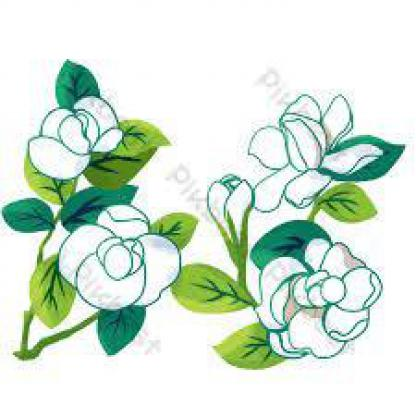Melati: (182, 99, 375, 363), (33, 99, 120, 149)
